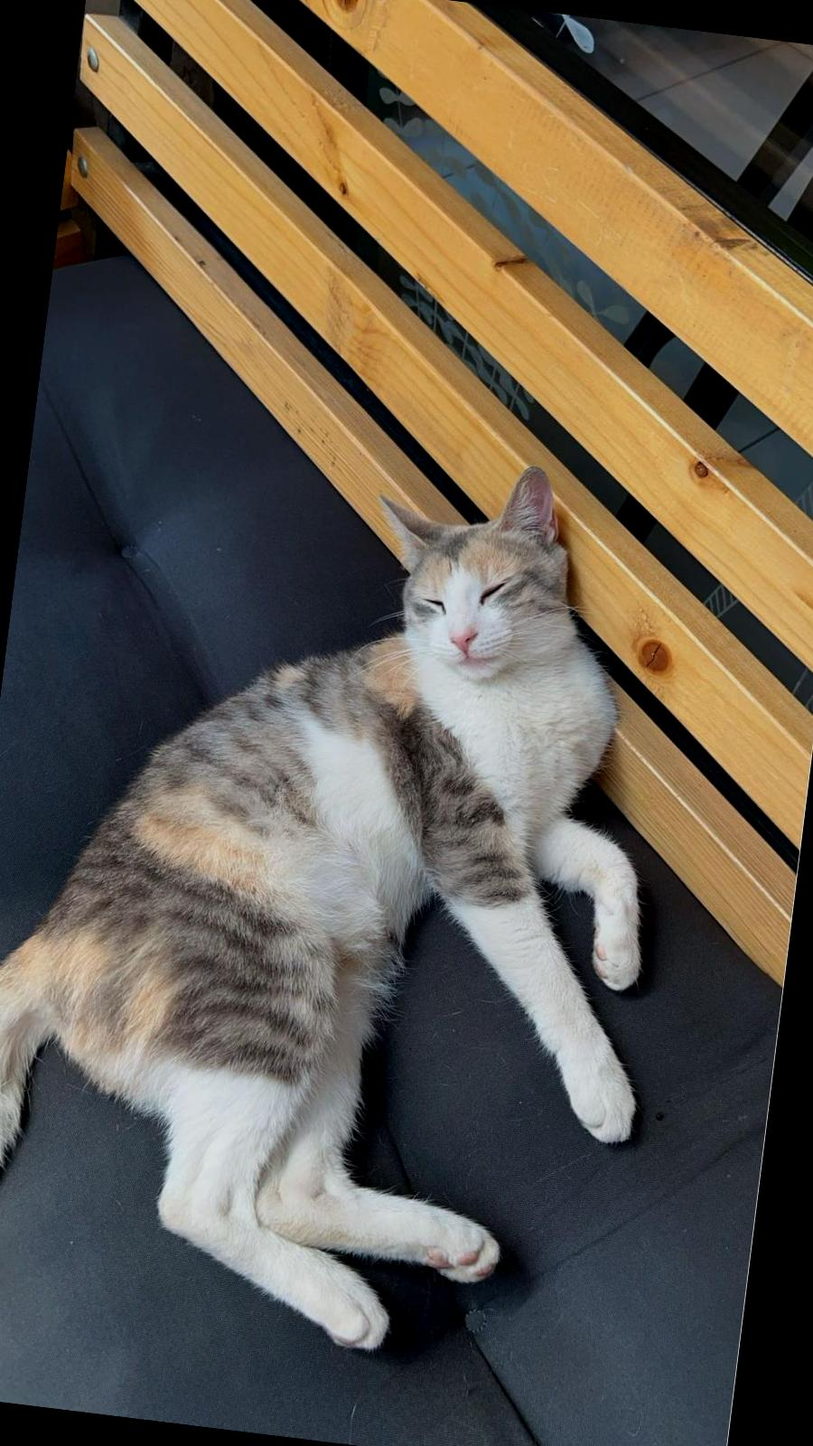macka: (0, 403, 712, 1381)
